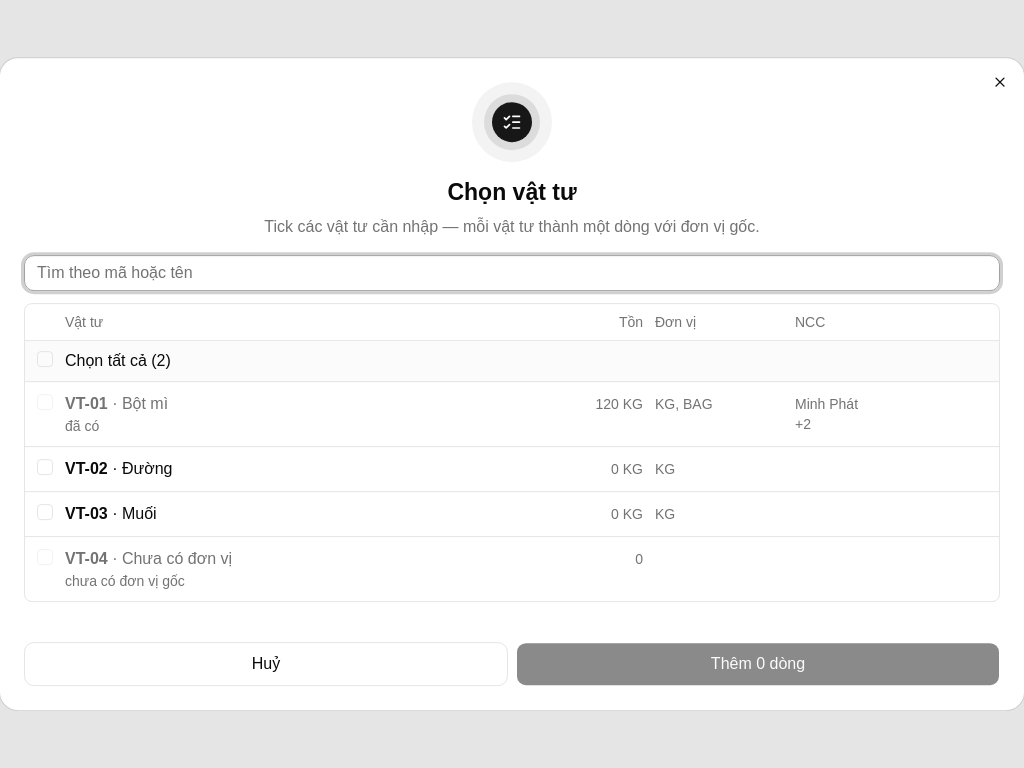
Test: ImportFormMaterialPicker › "Chọn tất cả" › trạng thái một phần khi mới tick vài vật tư; vật tư "đã có" không tính
Click the checkbox named "Muối" next to "VT-03" at point(45, 512), box [37,504,53,520]
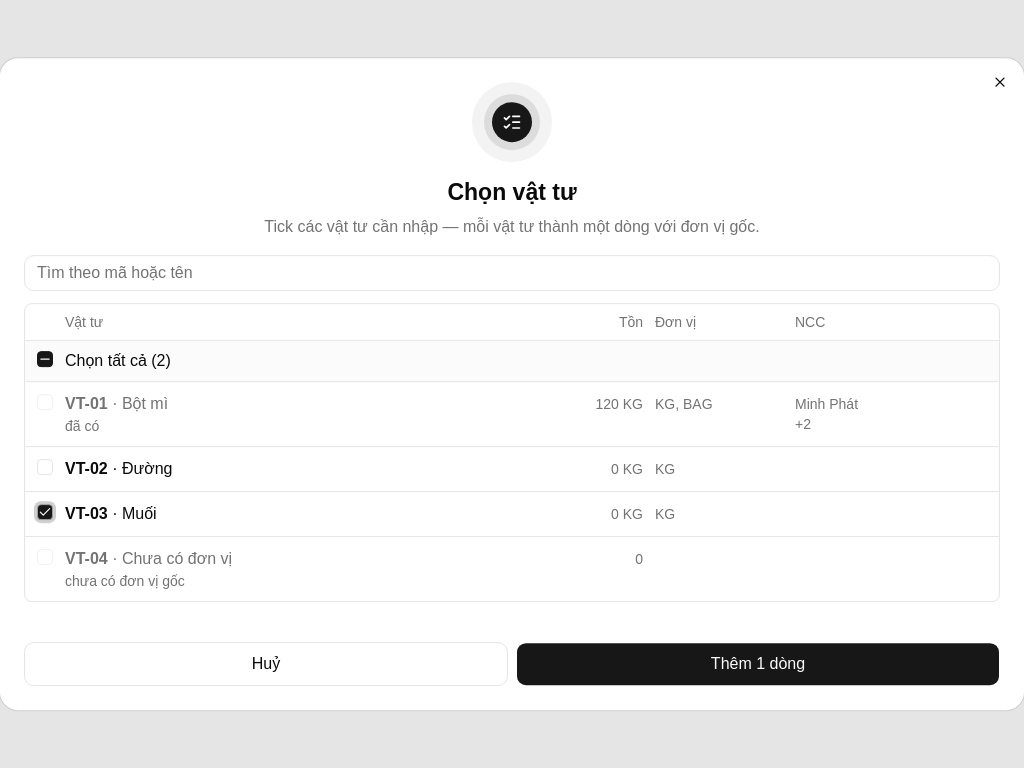
Expected: the checkbox named "Chọn tất cả" next to "Chọn tất cả (2)" has attribute aria-checked="mixed"
Click the checkbox named "Chọn tất cả" next to "Chọn tất cả (2)" at point(45, 359), box [37,351,53,367]
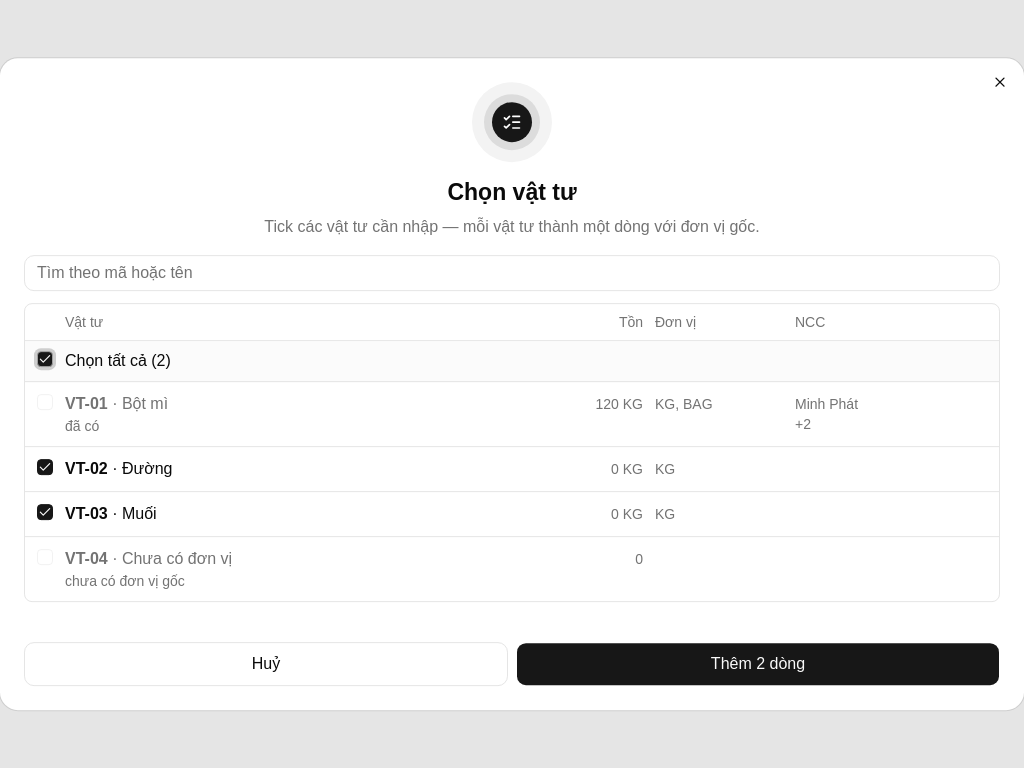
Expected: the checkbox named "Chọn tất cả" next to "Chọn tất cả (2)" is checked, [37,351,53,367]
Expected: the button "Thêm 2 dòng" is shown, [516,642,1000,686]
